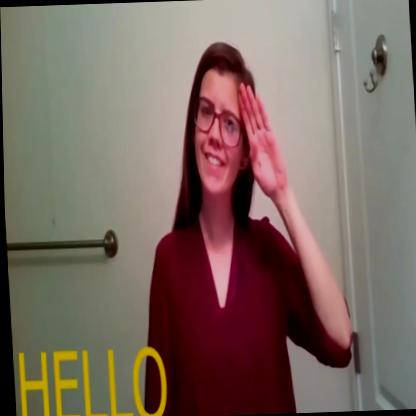Hello: (168, 0, 314, 259)
